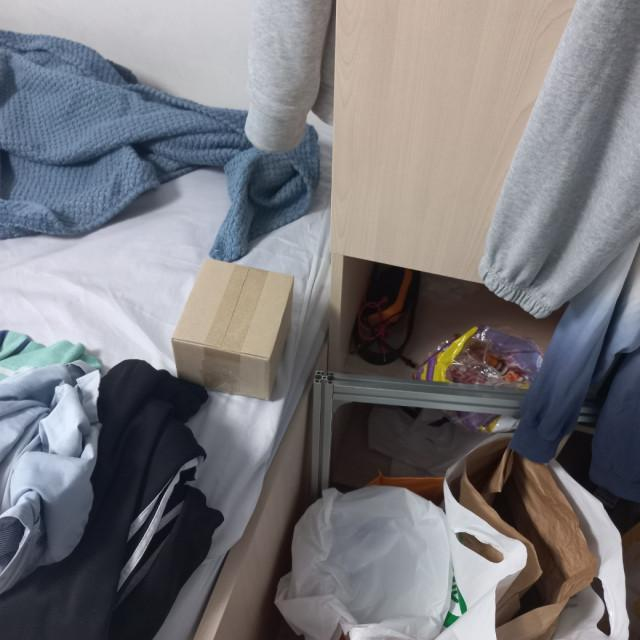box: (167, 252, 298, 402)
